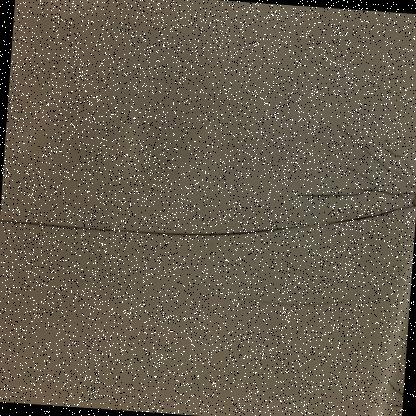Crack: (0, 192, 282, 269), (282, 114, 415, 241), (233, 278, 396, 318), (371, 362, 405, 415)
